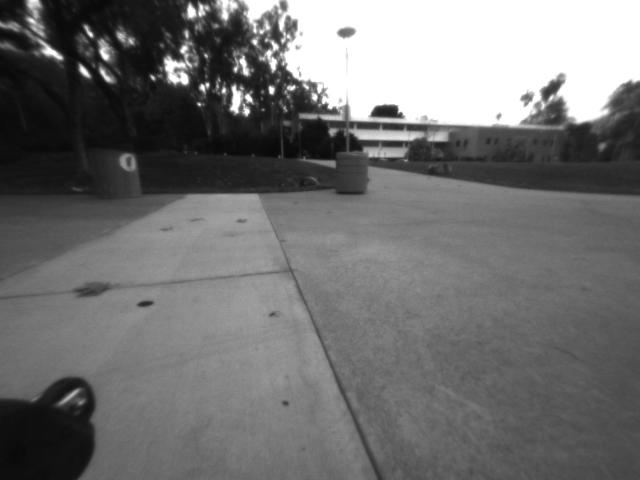trashcan: (81, 138, 143, 197), (331, 151, 368, 197)
